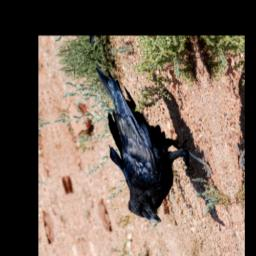Crow: (87, 48, 223, 231)
